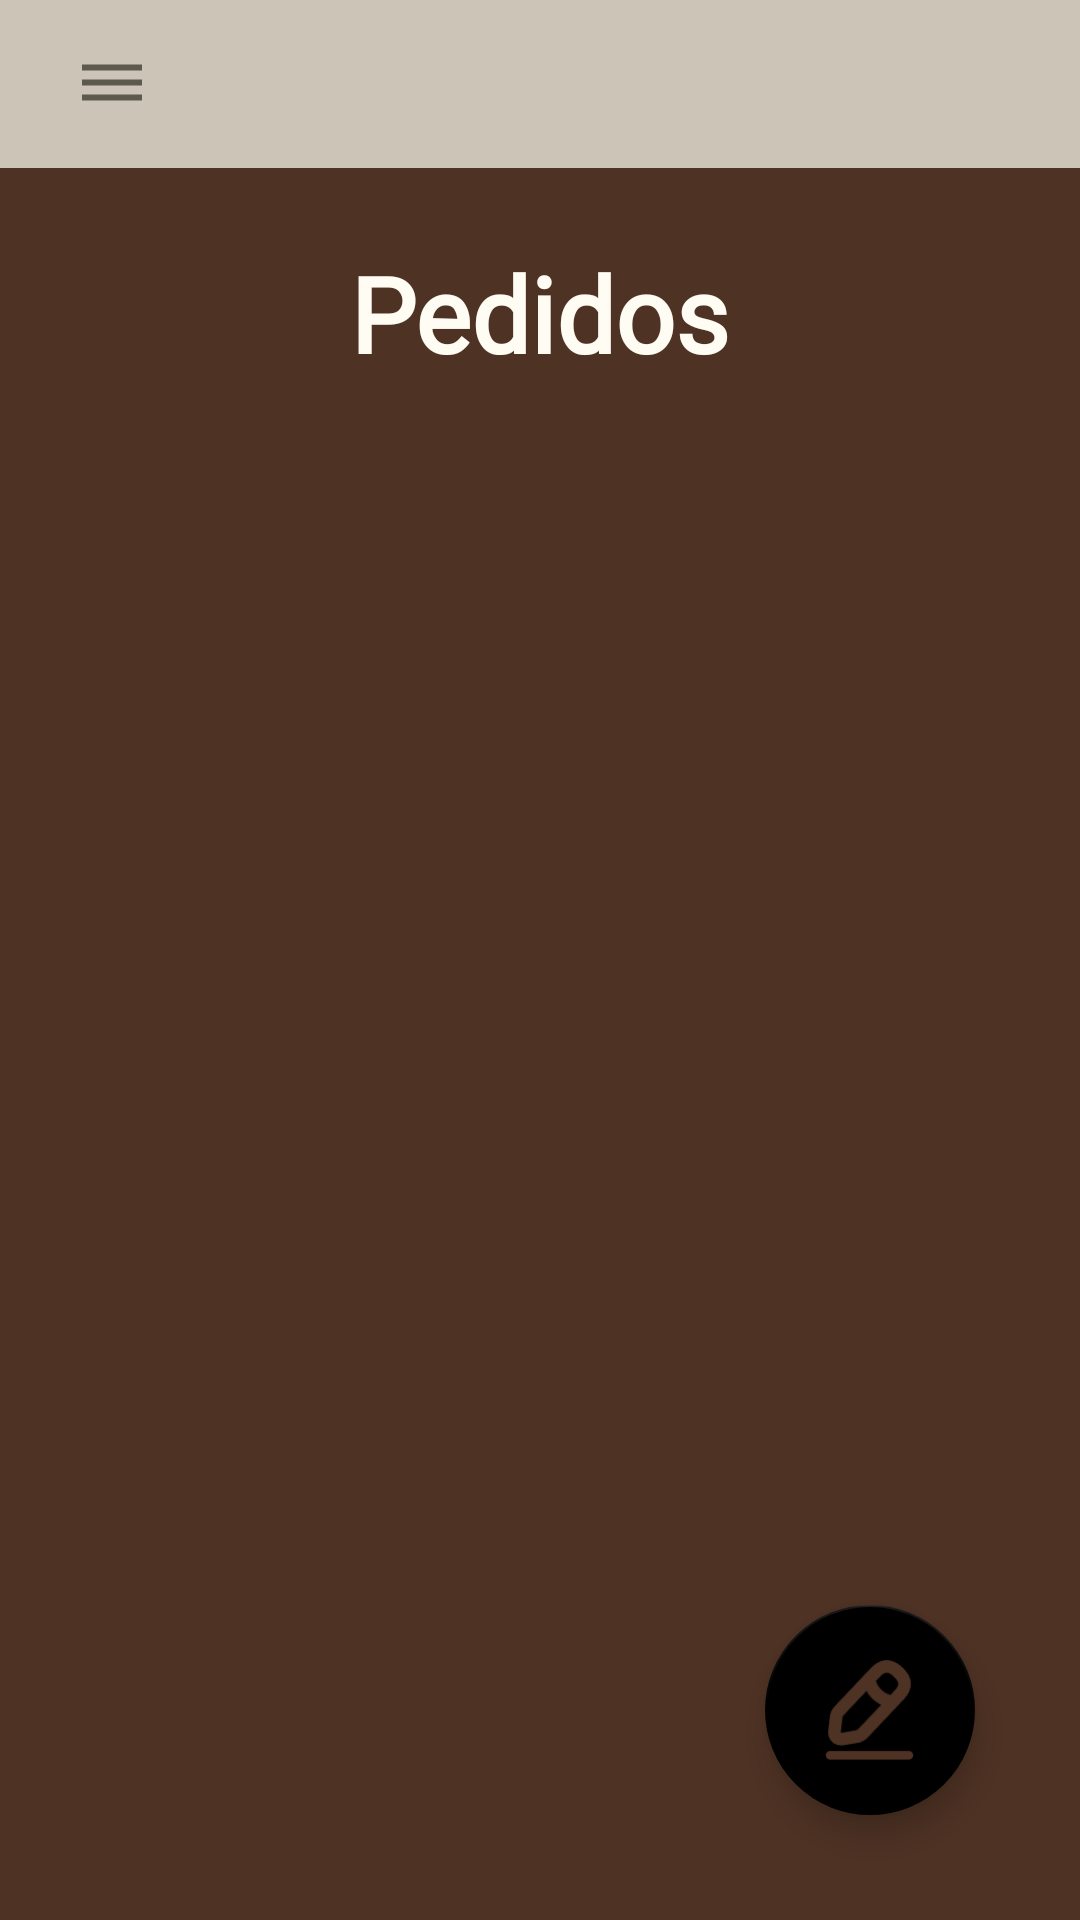

Point at icon controls on the screen. Image size 1080px×1920px, points as (x,y).
drawer: (112,82)
